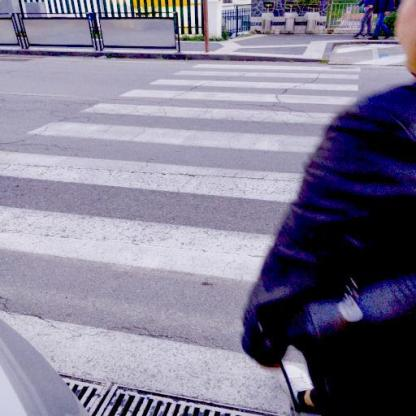crosswalk: (26, 102, 322, 156), (168, 58, 365, 82)
